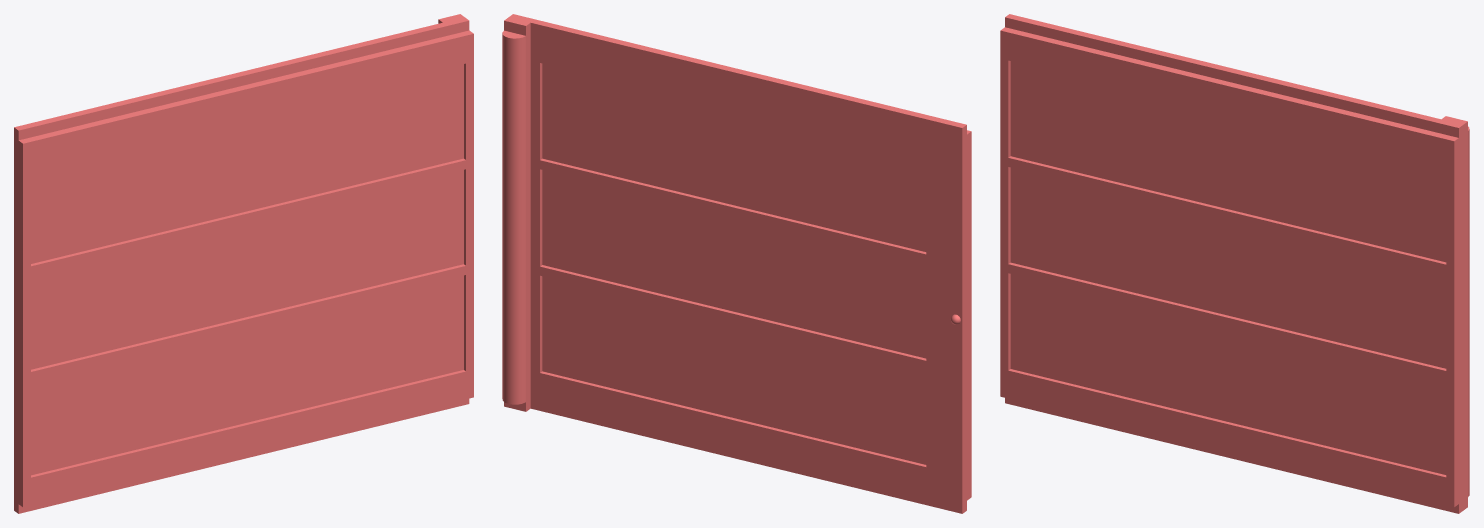
3 views of the same model, side by side, from view 1: azimuth 30°, elevation 25°; view 2: azimuth 150°, elevation 25°; view 3: azimuth 330°, elevation 25° (orthographic).
Visible parts, largest first — view 1: LDrawPart; view 2: LDrawPart; view 3: LDrawPart.
Part boxes in pixels (bbox=[...]): LDrawPart: bbox=[14, 14, 473, 513]; LDrawPart: bbox=[502, 14, 971, 513]; LDrawPart: bbox=[1000, 14, 1469, 513].
Size of the model in its own units: 1.01 by 0.819 by 0.077.
